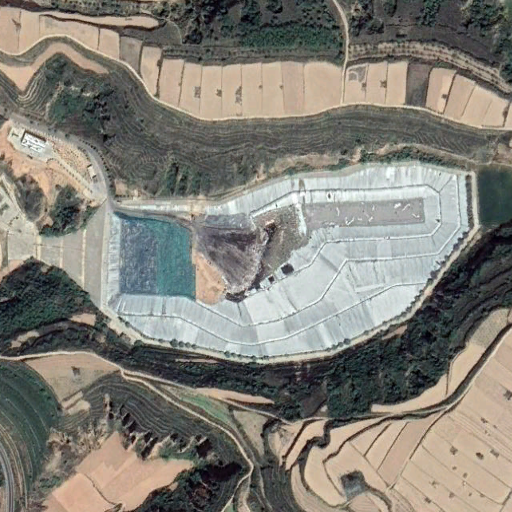lf: (102, 162, 475, 367)
